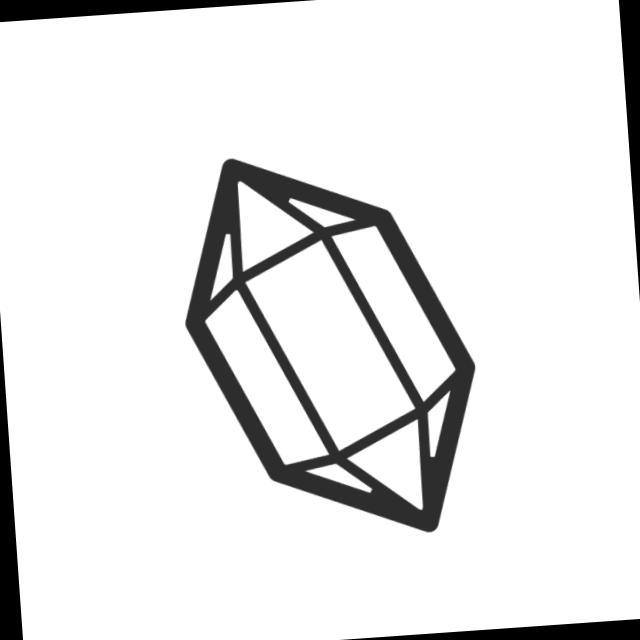crystal: (163, 134, 497, 557)
